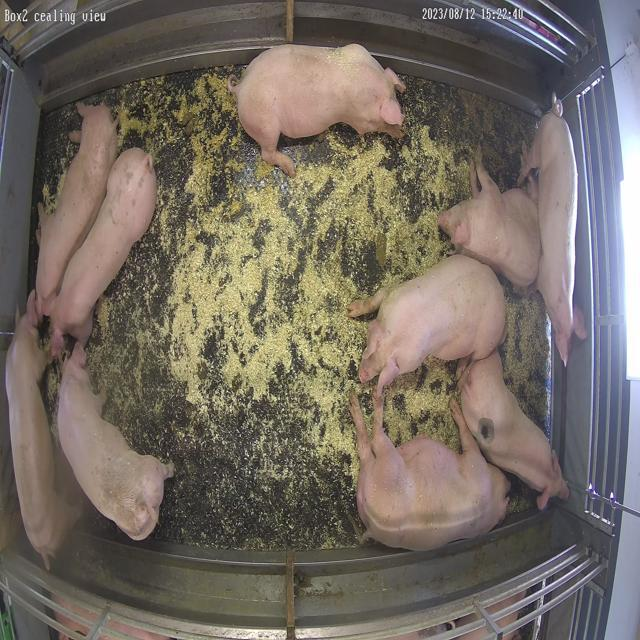Dirt: (87, 66, 289, 186), (401, 78, 538, 188)
Pig: (351, 396, 511, 552), (57, 344, 174, 542), (229, 46, 405, 176), (349, 255, 506, 396), (5, 293, 83, 570), (52, 148, 156, 346), (462, 352, 570, 510), (36, 104, 116, 316), (522, 99, 583, 364), (439, 150, 542, 288)
